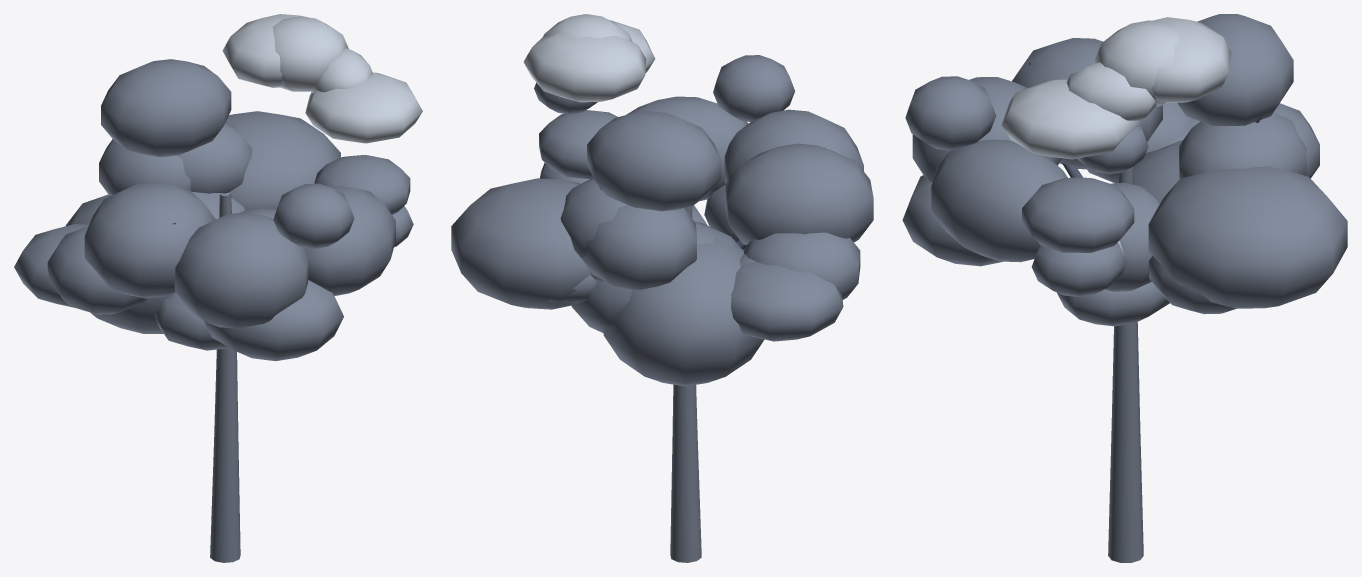
Rendered from 圆冠乔木.glb.
3 views of the same model, side by side, from view 1: azimuth 30°, elevation 25°; view 2: azimuth 150°, elevation 25°; view 3: azimuth 270°, elevation 25° (orthographic). The views are drawn at different scales.
Visible parts, largest first — view 1: garden-tree-rounded-leaf, garden-tree-rounded-light, garden-tree-rounded-trunk; view 2: garden-tree-rounded-leaf, garden-tree-rounded-light, garden-tree-rounded-trunk; view 3: garden-tree-rounded-leaf, garden-tree-rounded-light, garden-tree-rounded-trunk.
Part boxes in pixels (x1,y1,x2,y2): garden-tree-rounded-leaf: [14, 59, 413, 361]; garden-tree-rounded-light: [222, 14, 422, 193]; garden-tree-rounded-trunk: [210, 194, 240, 562]; garden-tree-rounded-leaf: [451, 55, 873, 386]; garden-tree-rounded-light: [523, 14, 655, 281]; garden-tree-rounded-trunk: [670, 206, 701, 562]; garden-tree-rounded-leaf: [902, 14, 1347, 326]; garden-tree-rounded-light: [1001, 17, 1231, 255]; garden-tree-rounded-trunk: [1108, 166, 1143, 562].
Bounding box in the file's own units: 2.1 × 3 × 2.1.
